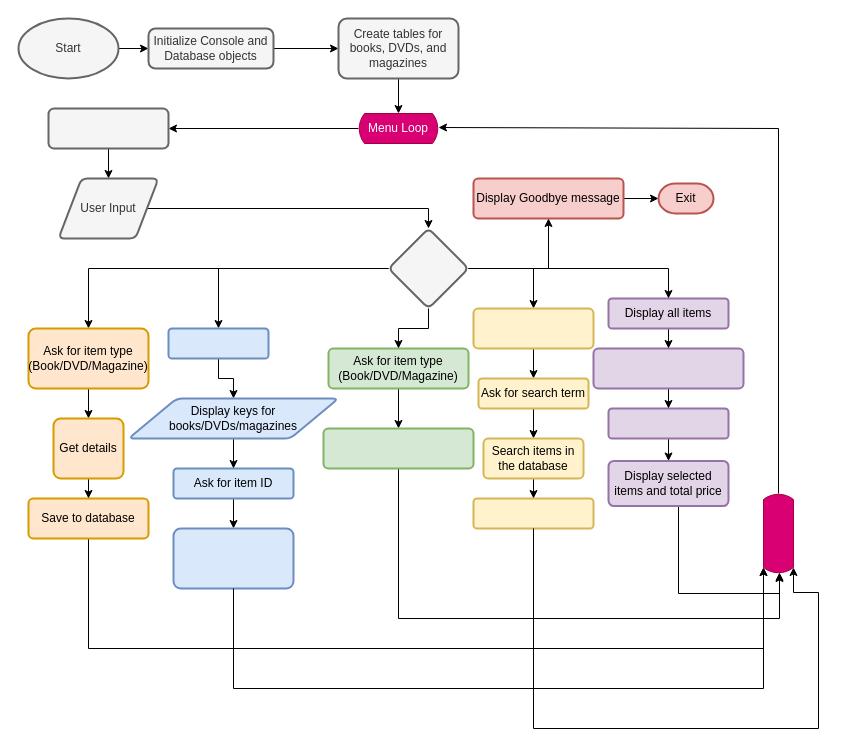
The diagram is 844 pixels wide and 754 high, and some of its shapes have lost their labels. Here are the shapes that lost their labels. From the top down, the centre of each, then its label:
(x=108, y=128): Display menu options
(x=428, y=268): Choice
(x=218, y=343): Ask for item type
(x=533, y=328): Ask for search option (Author/Title)
(x=668, y=368): Ask for item IDs to purchase
(x=668, y=423): Calculate total price
(x=398, y=448): Display items (All/Book/DVD/Magazine)
(x=533, y=513): Display search results
(x=233, y=558): Delete book/DVD/magazine from the database
